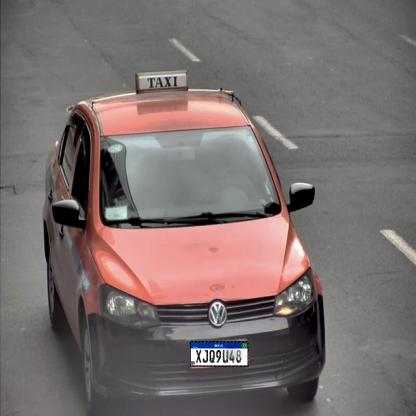PlacaM: (190, 341, 249, 367)
